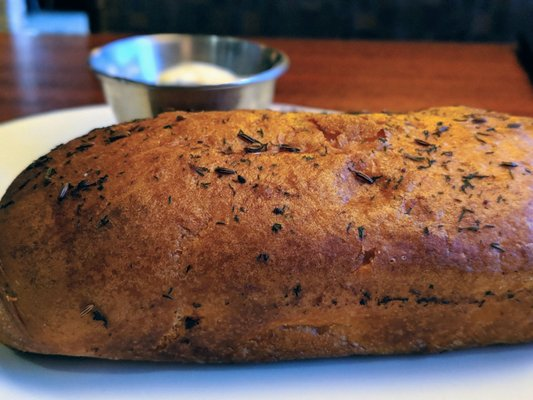sushi: (89, 33, 290, 123)
